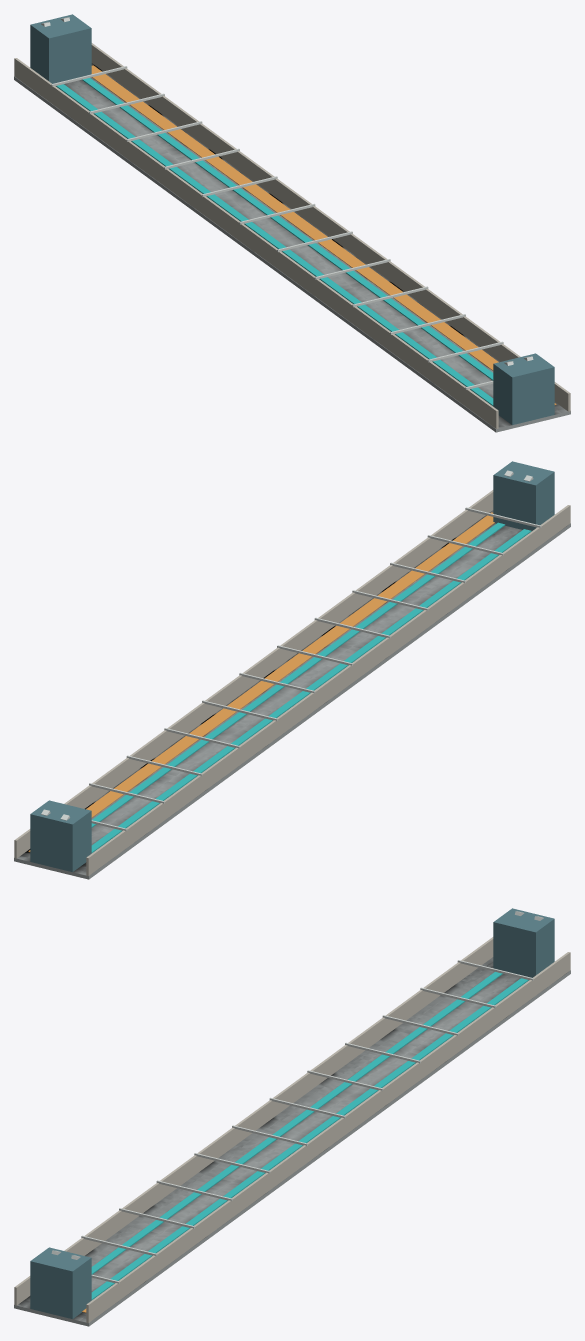
The model's file is aus-tunnel.glb.
3 renders of one model, top to bottom at view 1: azimuth 30°, elevation 25°; view 2: azimuth 150°, elevation 25°; view 3: azimuth 330°, elevation 25°, orthographic.
Visible parts, largest first — view 1: 30 Tunnel cutaway - schematic__Apron concrete; view 2: 30 Tunnel cutaway - schematic__Apron concrete; view 3: 30 Tunnel cutaway - schematic__Apron concrete.
Boxes of the visible parts, x1=… form: 30 Tunnel cutaway - schematic__Apron concrete: x1=14, y1=14, x2=570, y2=432; 30 Tunnel cutaway - schematic__Apron concrete: x1=14, y1=461, x2=570, y2=879; 30 Tunnel cutaway - schematic__Apron concrete: x1=14, y1=908, x2=570, y2=1326.
Bounding box in the file's own units: 23 × 15.86 × 256.
